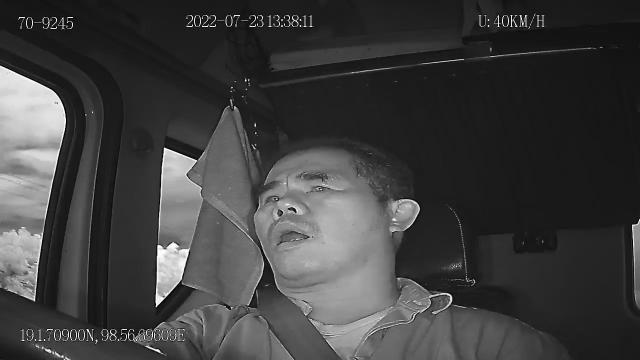SafeDriving: (298, 172, 340, 197)
Seatbelt: (255, 288, 343, 360)
